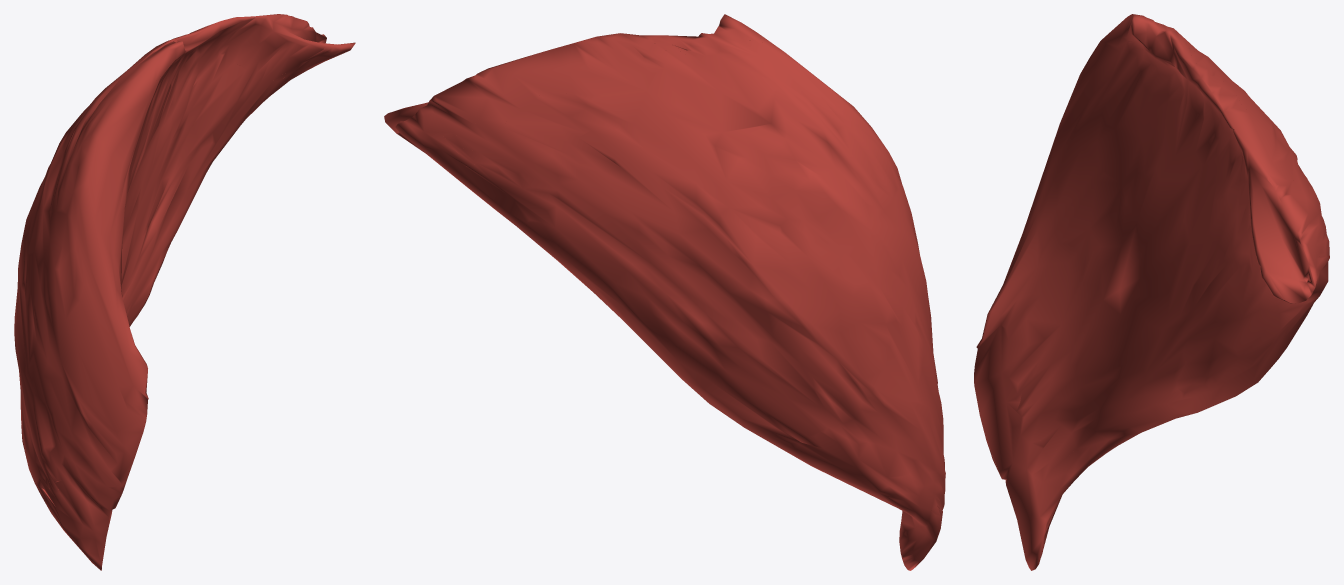
The model's file is musculos-scapular-spinal-part-of-deltoid-muscle-r.glb.
3 renders of one model, left to right at view 1: azimuth 30°, elevation 25°; view 2: azimuth 150°, elevation 25°; view 3: azimuth 270°, elevation 25°, orthographic. The views are drawn at different scales.
Visible parts, largest first — view 1: Scapular spinal part of deltoid muscle.r; view 2: Scapular spinal part of deltoid muscle.r; view 3: Scapular spinal part of deltoid muscle.r.
Boxes of the visible parts, x1,y1,x2,y2 form: Scapular spinal part of deltoid muscle.r: (14, 14, 355, 570); Scapular spinal part of deltoid muscle.r: (384, 14, 945, 570); Scapular spinal part of deltoid muscle.r: (974, 14, 1329, 570).
Size of the model in its own units: 0.1368 by 0.1564 by 0.0801.
